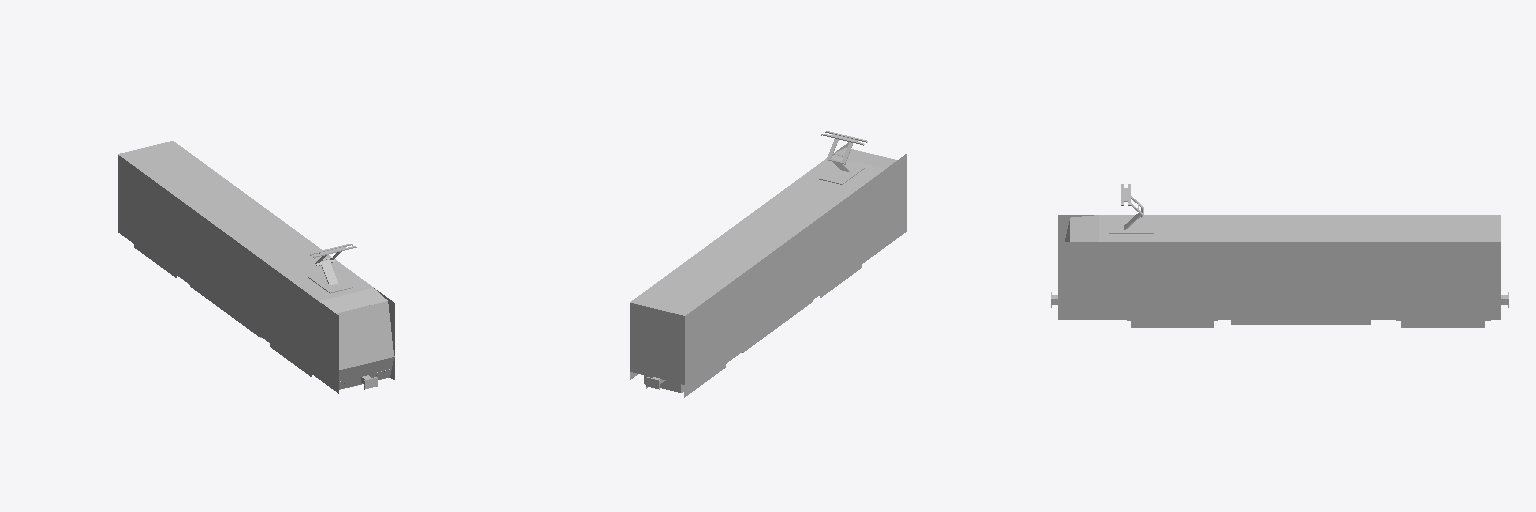
The model's file is motor_fm032.obj.
3 renders of one model, left to right at view 1: azimuth 30°, elevation 25°; view 2: azimuth 150°, elevation 25°; view 3: azimuth 270°, elevation 25°, orthographic.
Visible parts, largest first — view 1: body_ext, bogie; view 2: body_ext, bogie; view 3: body_ext, bogie.
Boxes of the visible parts, x1,y1,x2,y2 form: body_ext: [118, 141, 394, 393]; bogie: [134, 244, 377, 389]; body_ext: [630, 131, 906, 393]; bogie: [644, 265, 861, 397]; body_ext: [1058, 184, 1500, 319]; bogie: [1051, 292, 1508, 327].
Size of the model in its own units: 2.2 by 4.72 by 15.75.